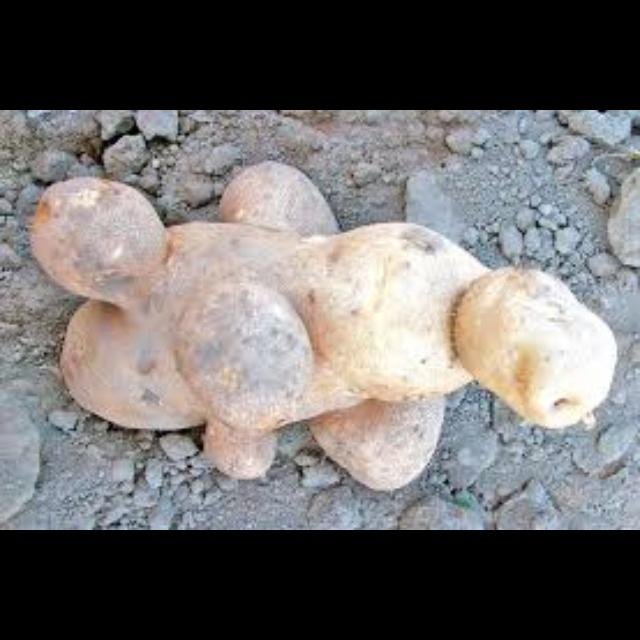Damaged potato: (18, 145, 610, 489)
